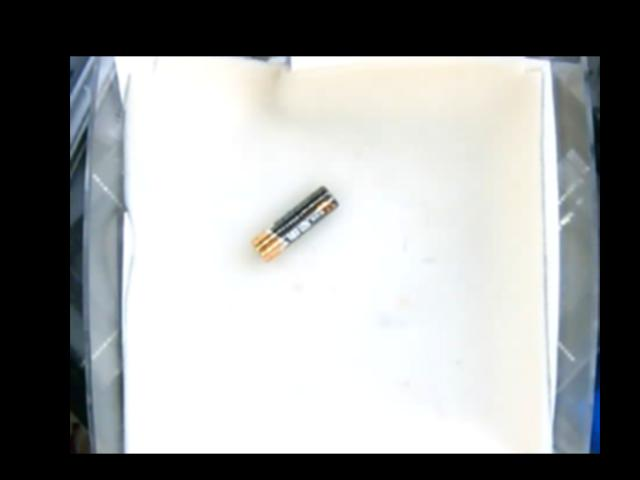Battery: (251, 182, 338, 259)
